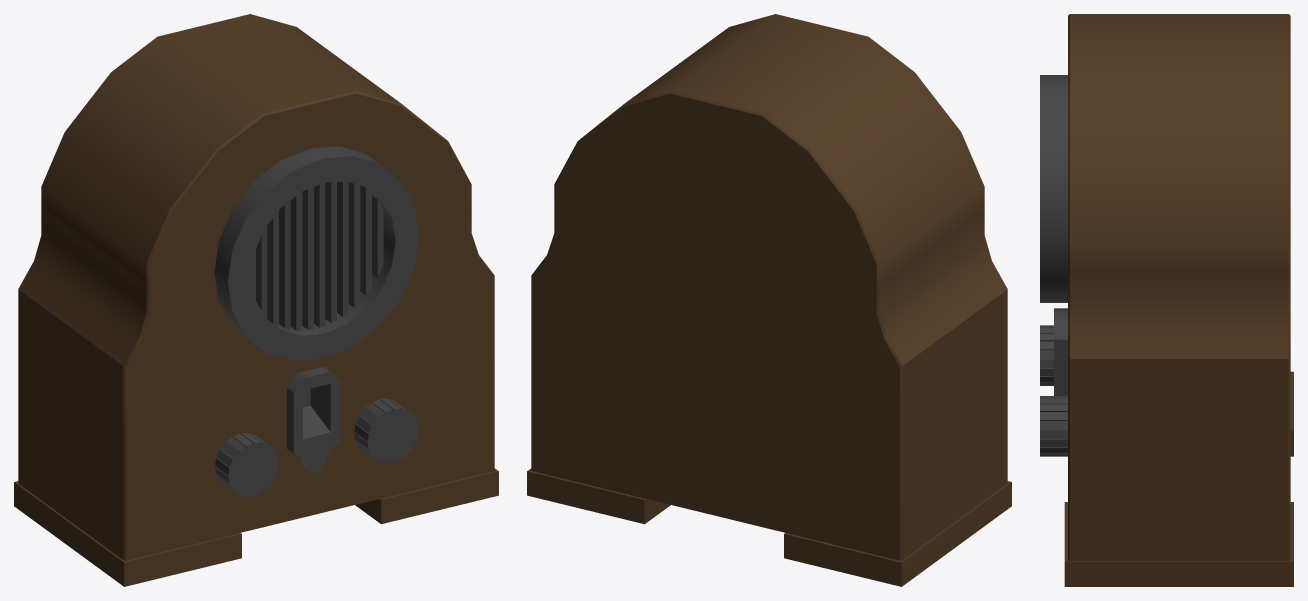
Rendered from Radio.fbx.
3 renders of one model, left to right at view 1: azimuth 30°, elevation 25°; view 2: azimuth 150°, elevation 25°; view 3: azimuth 270°, elevation 25°, orthographic. The views are drawn at different scales.
Visible parts, largest first — view 1: PixelRadio_0013__1_:KeyholeQ1; view 2: PixelRadio_0013__1_:KeyholeQ1; view 3: PixelRadio_0013__1_:KeyholeQ1.
Boxes of the visible parts, x1=… form: PixelRadio_0013__1_:KeyholeQ1: x1=14, y1=14, x2=498, y2=586; PixelRadio_0013__1_:KeyholeQ1: x1=527, y1=14, x2=1011, y2=586; PixelRadio_0013__1_:KeyholeQ1: x1=1040, y1=14, x2=1293, y2=586.
Size of the model in its own units: 16.14 by 18 by 9.11.
